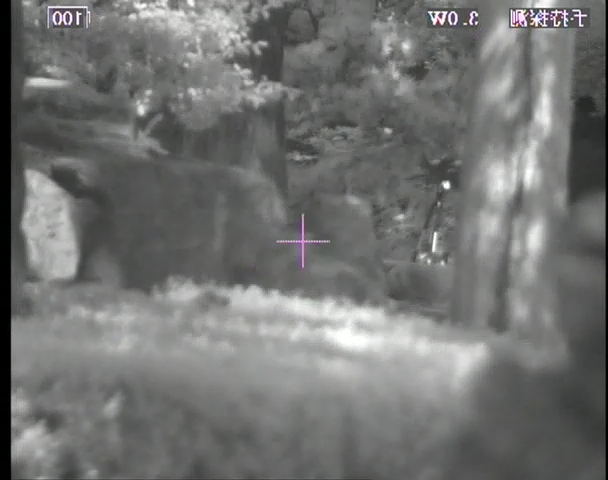my: (441, 179, 451, 190)
